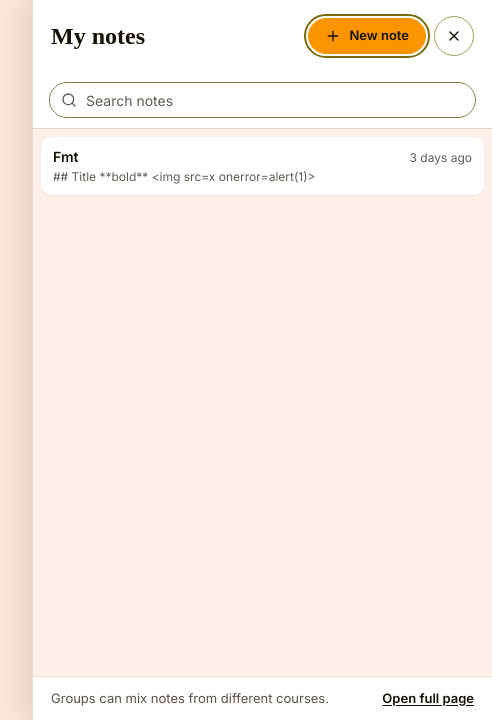
Scenario: My Notes panel › renders formatted Markdown in preview without turning HTML into elements
Later steps or results of the test are not shown.
Click the text "Fmt": (66, 157) [53,147,78,167]
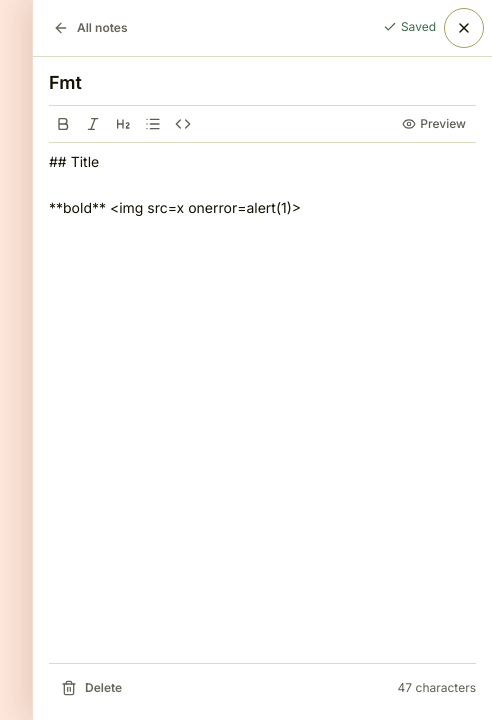
Expected: the field showing "Fmt" is shown, [49,69,476,97]
